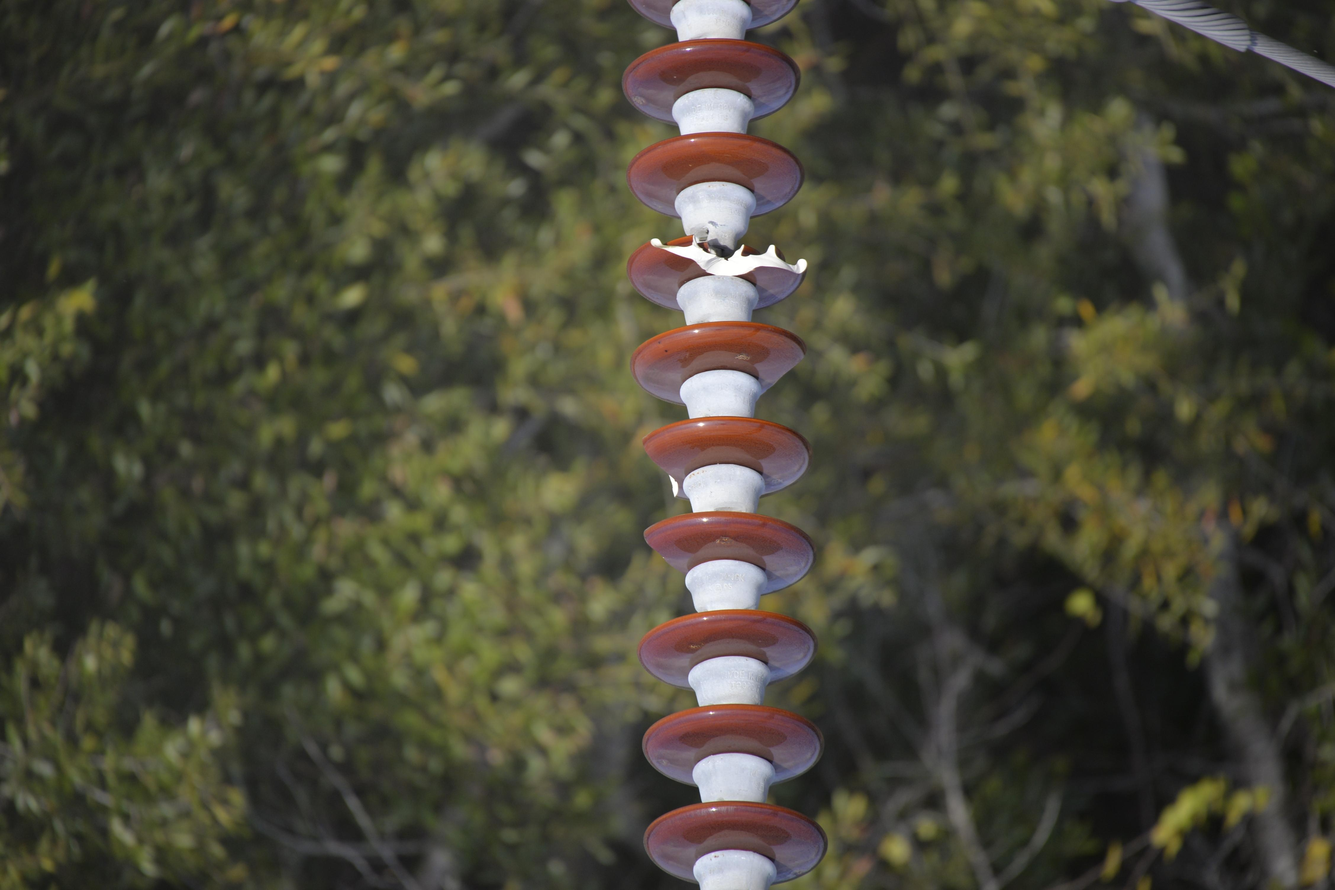damaged: (641, 222, 810, 290), (641, 427, 696, 505), (752, 324, 804, 406)
insulator: (621, 0, 830, 890)
